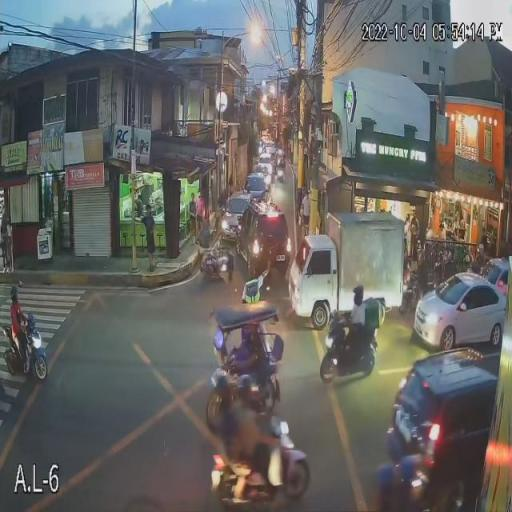helmet: (242, 378, 272, 410), (210, 371, 234, 405), (351, 285, 366, 305), (10, 288, 21, 305)
motorcycle: (207, 406, 311, 511), (319, 312, 379, 384), (3, 311, 51, 382)
rider: (196, 368, 242, 498), (236, 375, 280, 504), (332, 285, 375, 360), (9, 287, 32, 359)
